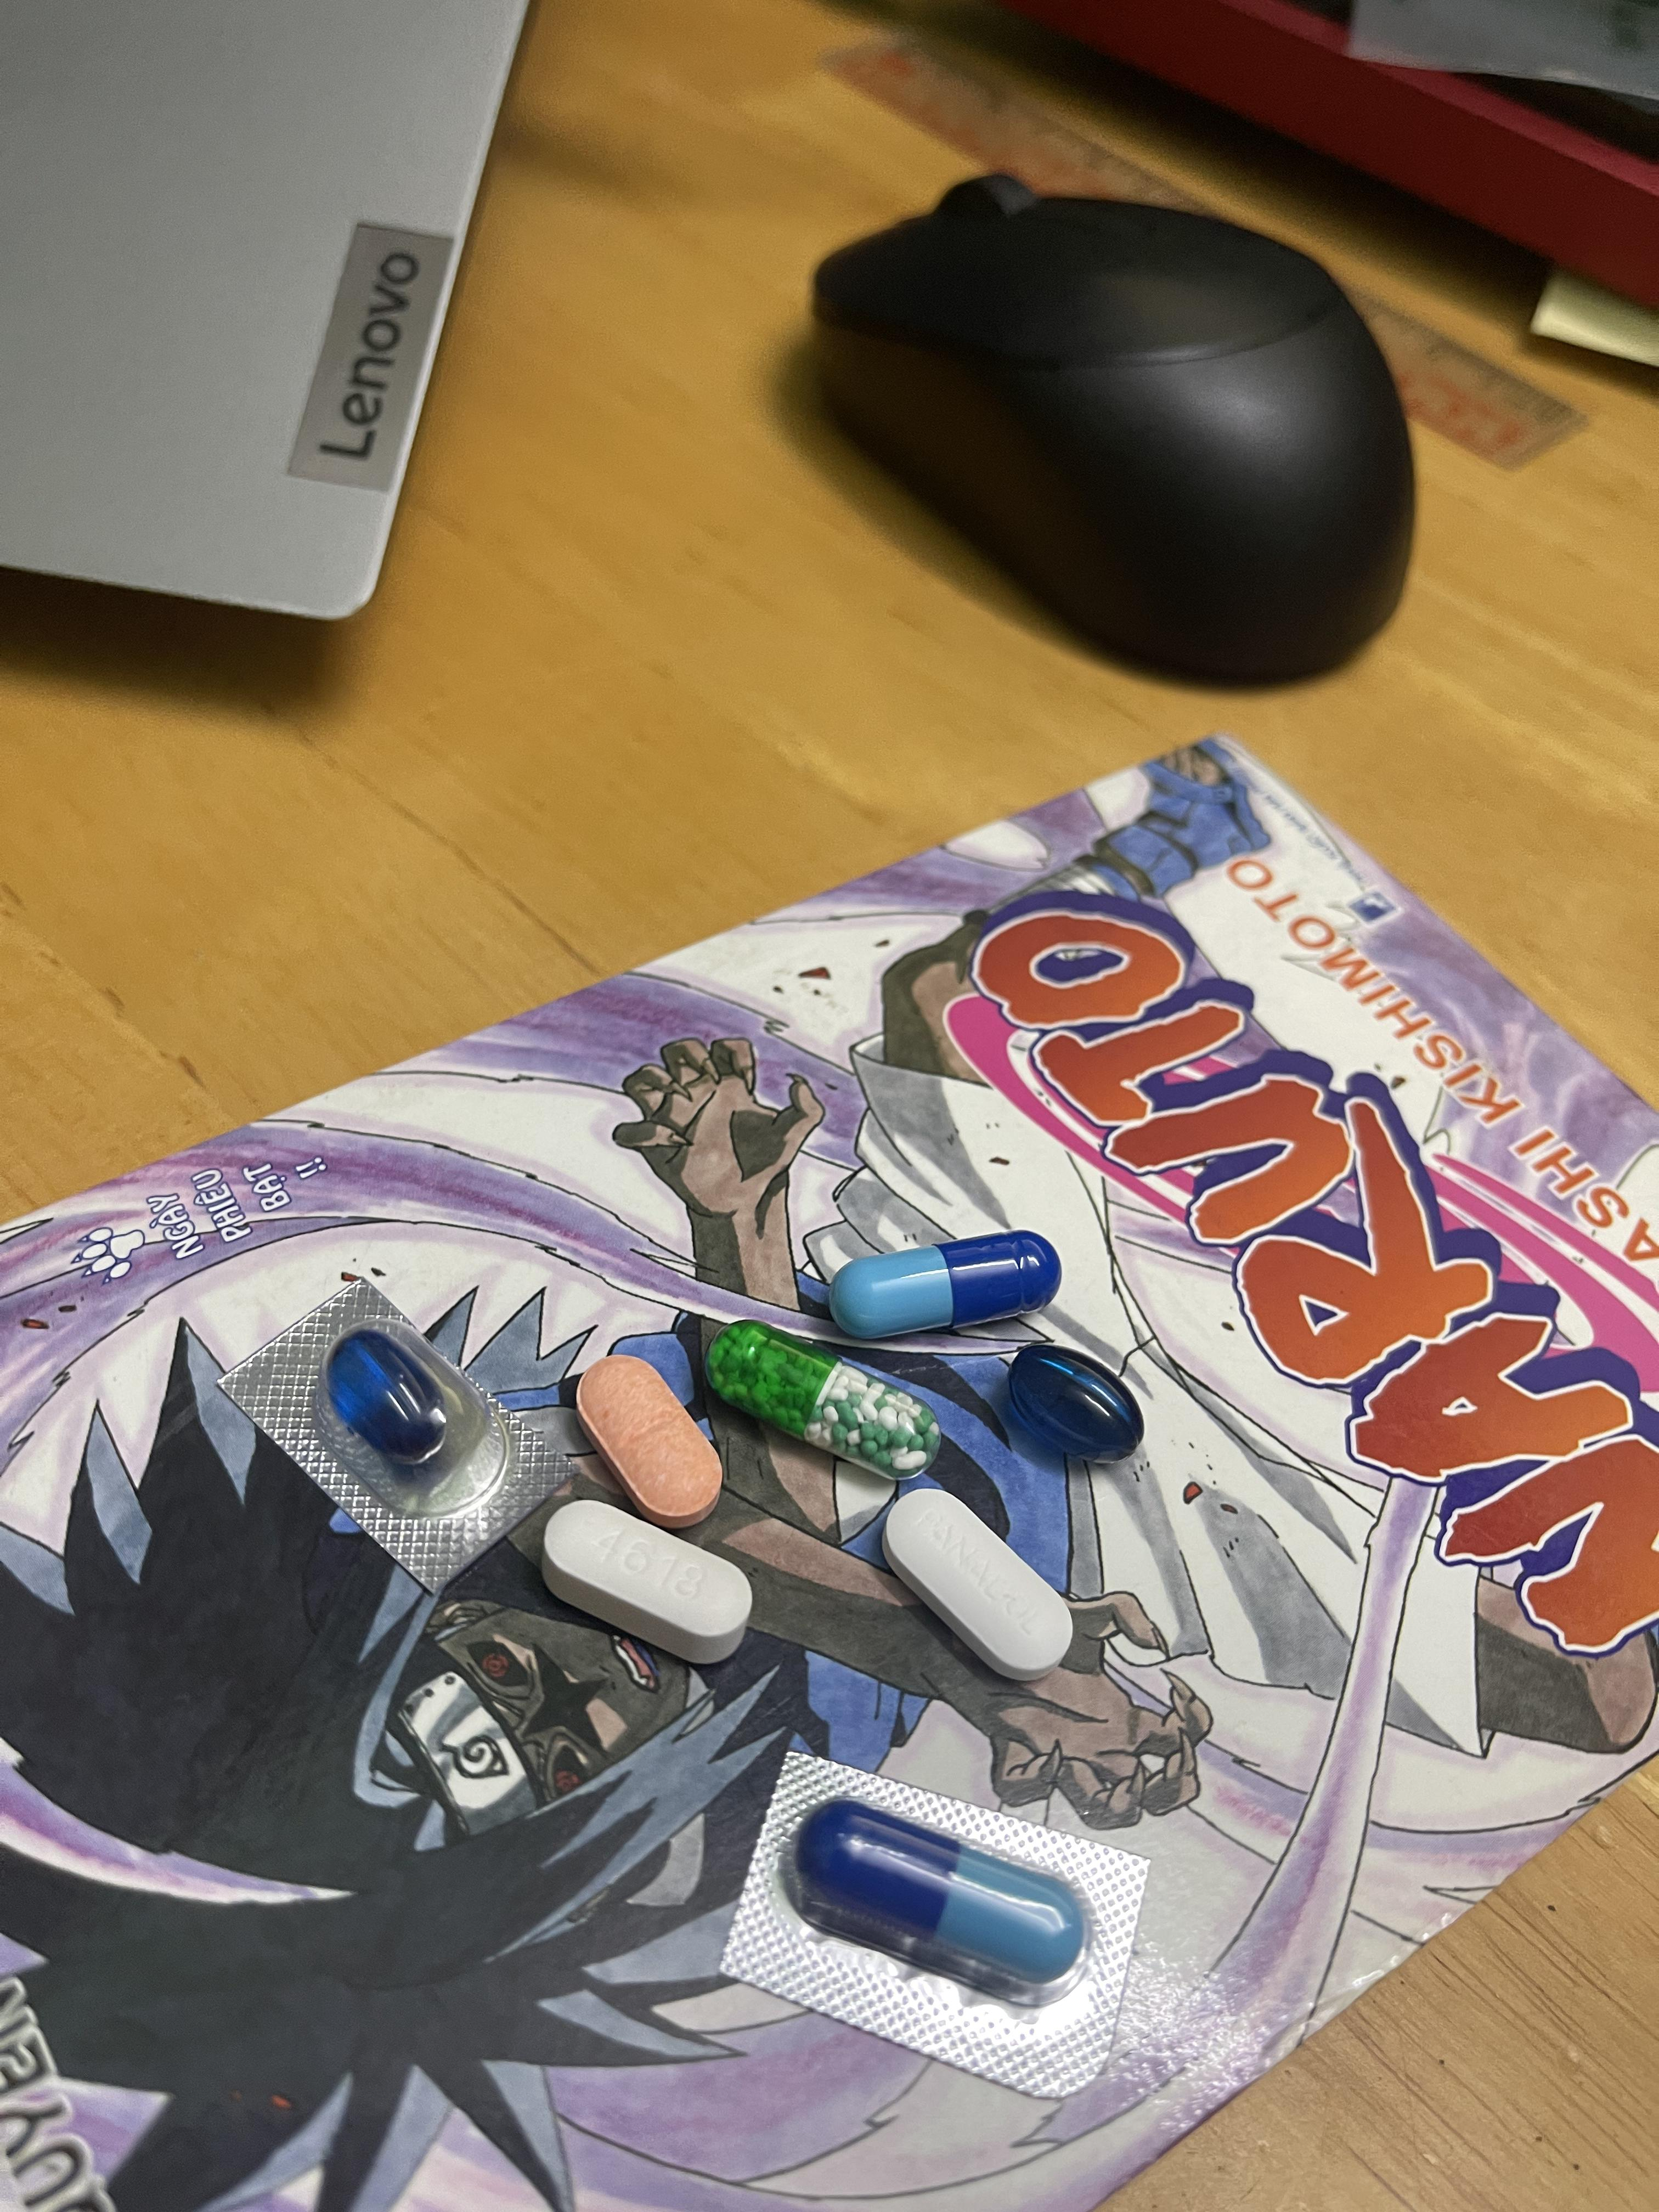Lincomyxin_500mg: (1006, 1343, 1145, 1465), (328, 1332, 451, 1468)
Loratadine_10mg: (577, 1353, 725, 1522)
Paracetamol_350mg: (882, 1486, 1068, 1683)
Paracetamol_500mg: (542, 1498, 753, 1665)
Paracetamol_650mg: (706, 1325, 934, 1475)
pill: (796, 1811, 1089, 2003), (831, 1237, 1054, 1332)
